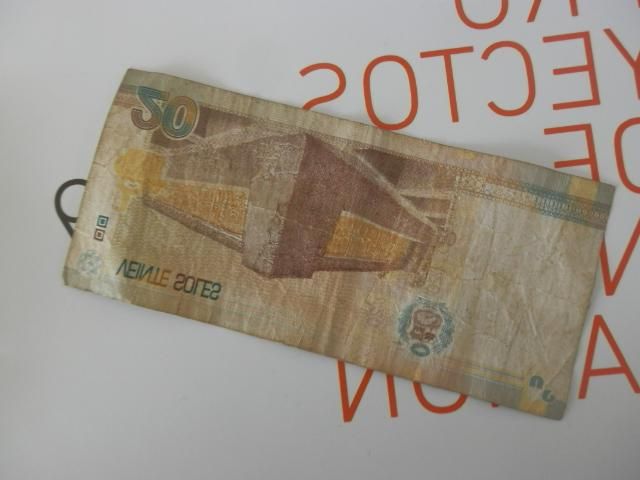B20: (65, 71, 615, 421)
